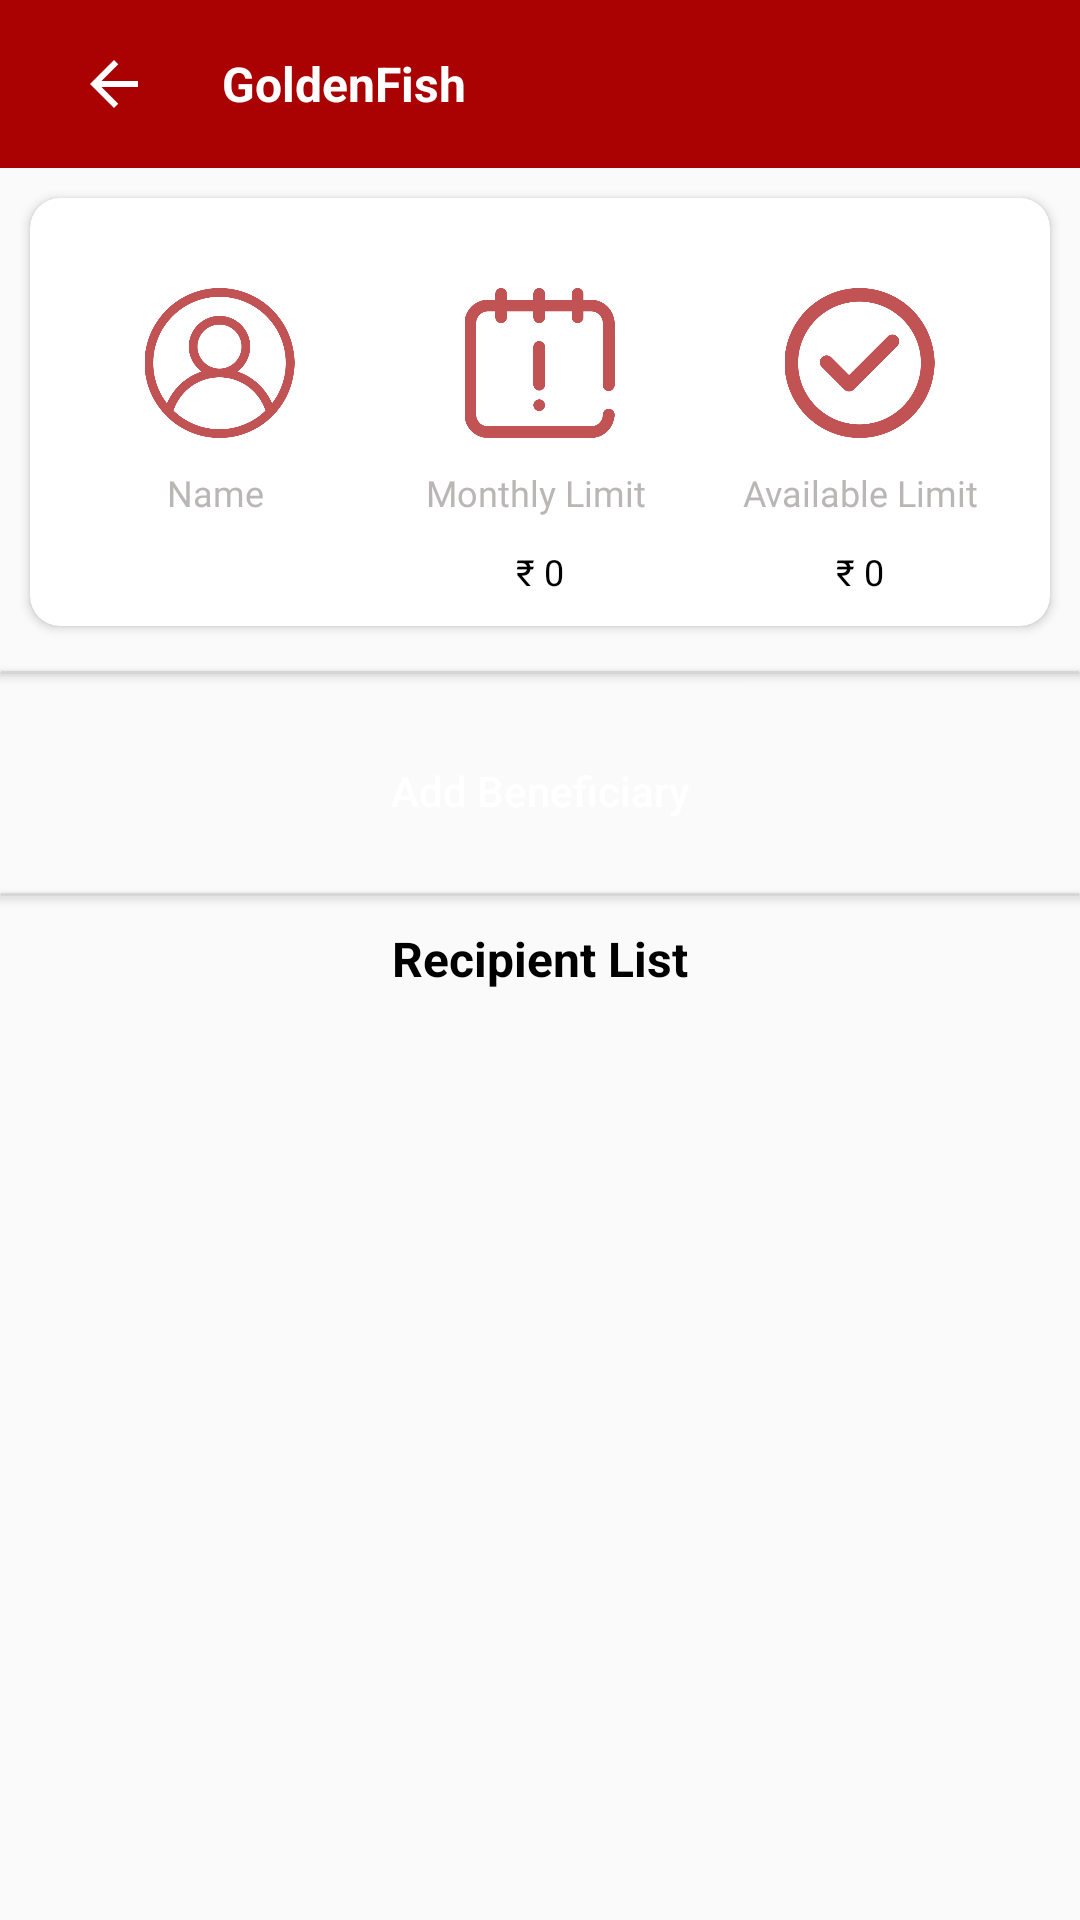

Locate icon controls on the screen. Image size 1080px x 1920px, boxes as (x1, y1, x2, y2).
back: (90, 60, 138, 108)
totallimit: (465, 288, 615, 438)
userdmt: (145, 288, 295, 438)
